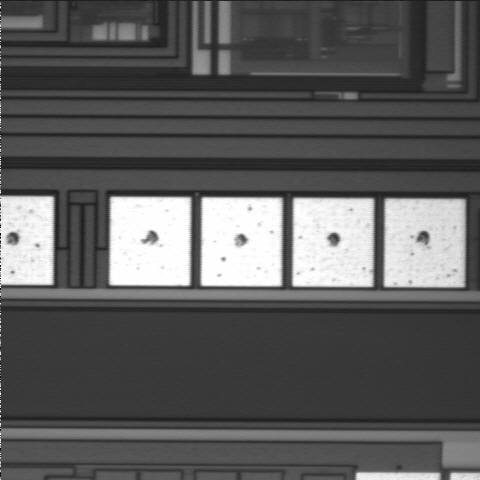pad: (109, 197, 191, 286), (292, 198, 374, 287), (201, 197, 282, 286), (384, 199, 465, 287)
